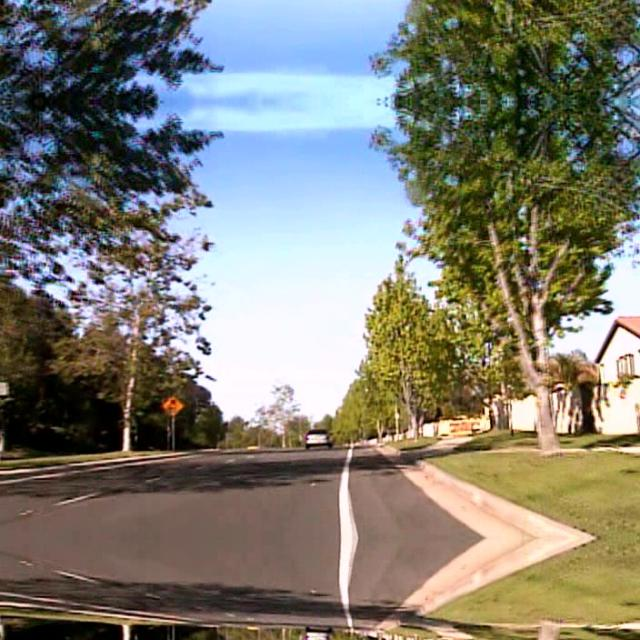signalAhead: (159, 394, 183, 416)
